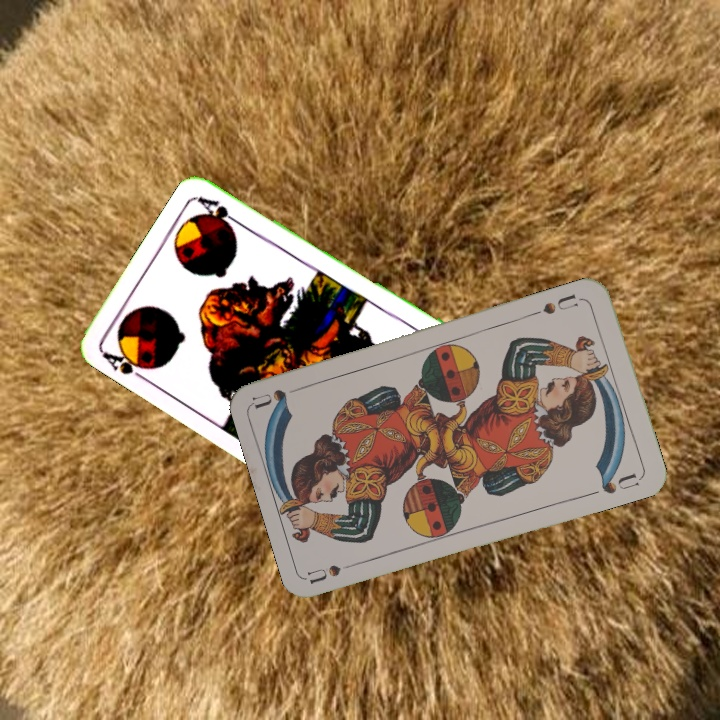SA: (98, 342, 158, 386)
SU: (305, 557, 364, 586), (539, 289, 580, 317)
